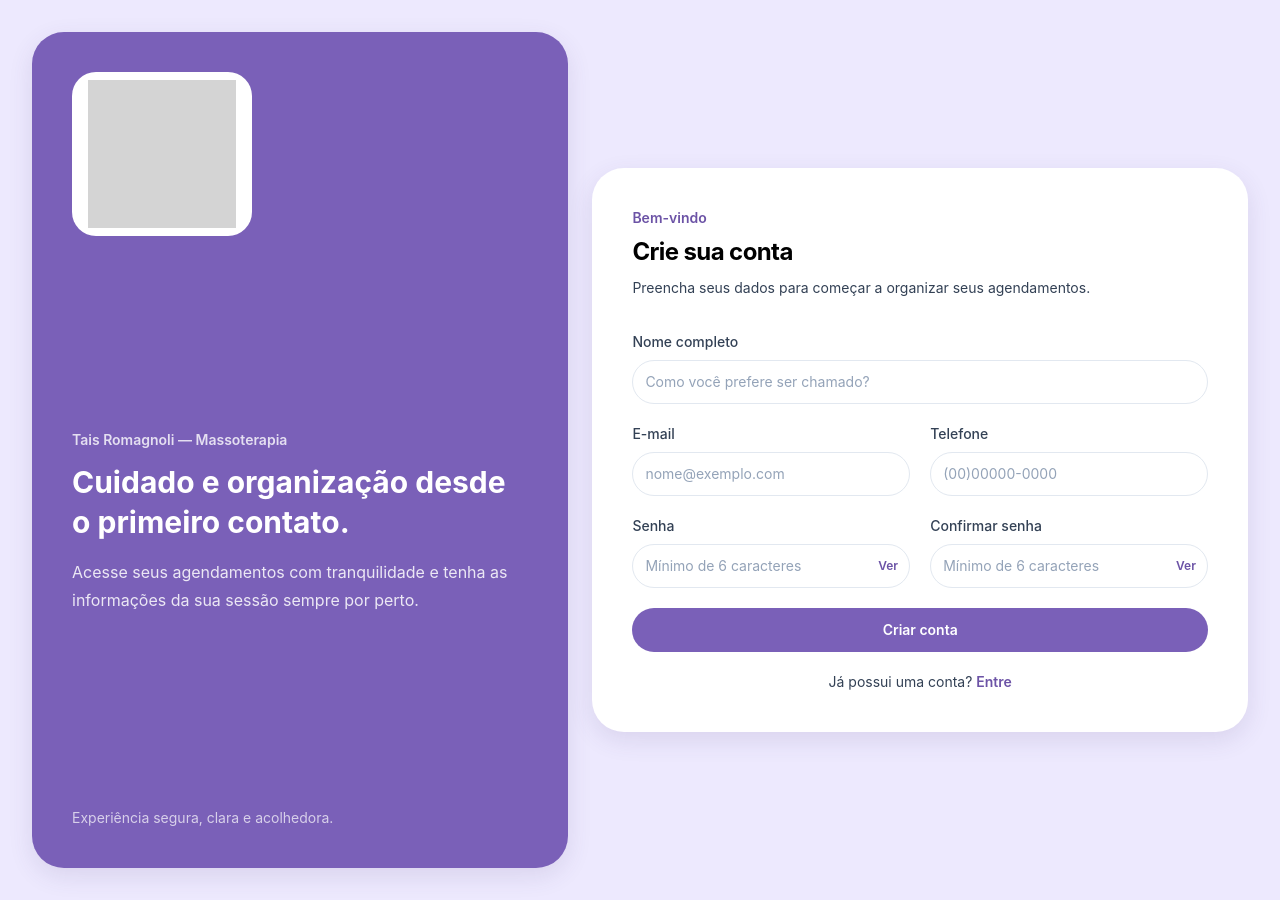
Test: RegisterPage › exibe erros de validação ao submeter o formulário vazio
The width and height of the screenshot is (1280, 900).
Click the button "Criar conta".
click(920, 630)  # box [632,608,1208,652]
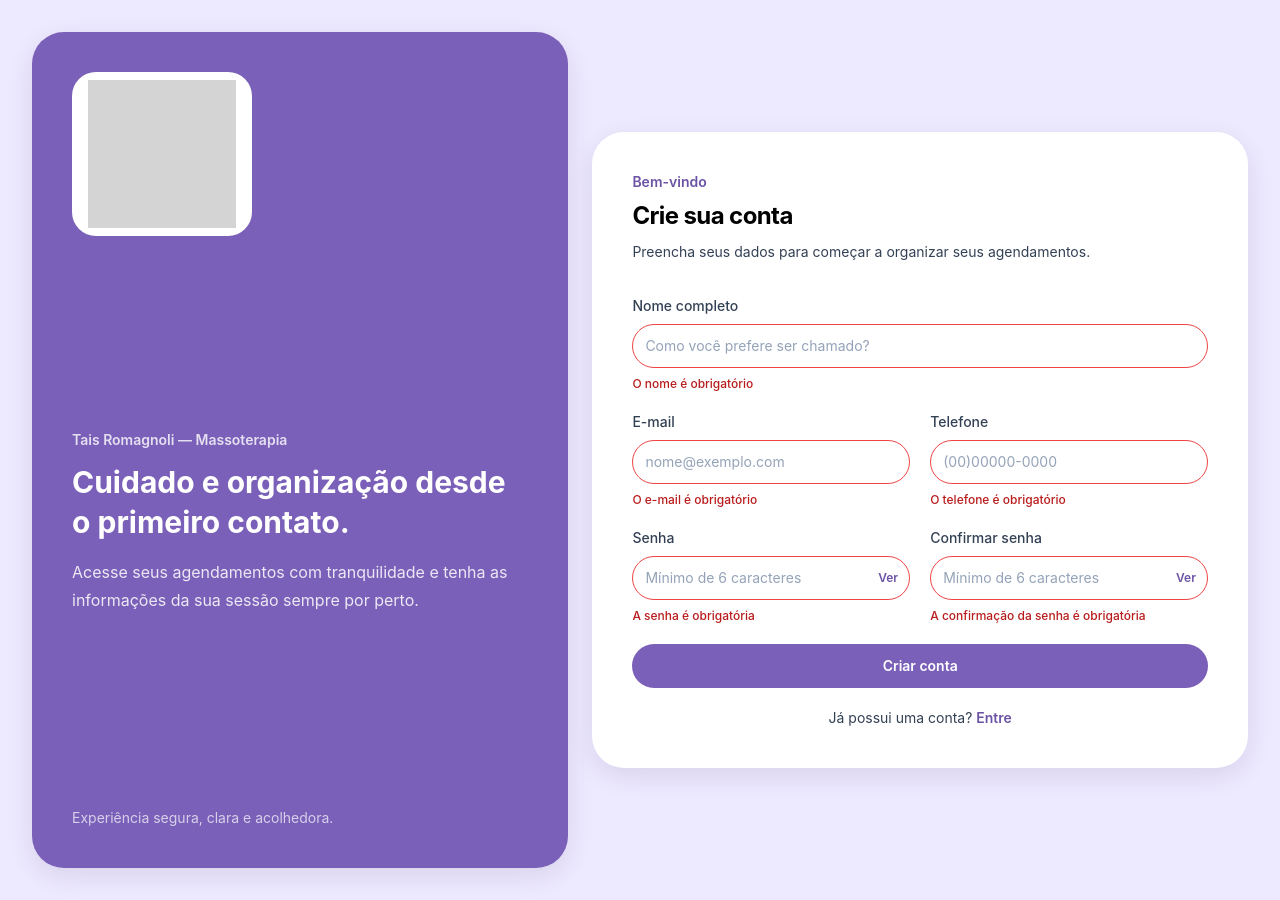
Expected: the text "O nome é obrigatório" is shown, [632,376,753,391]
Expected: the text "O telefone é obrigatório" is shown, [930,492,1066,507]
Expected: the text "O e-mail é obrigatório" is shown, [632,492,757,507]
